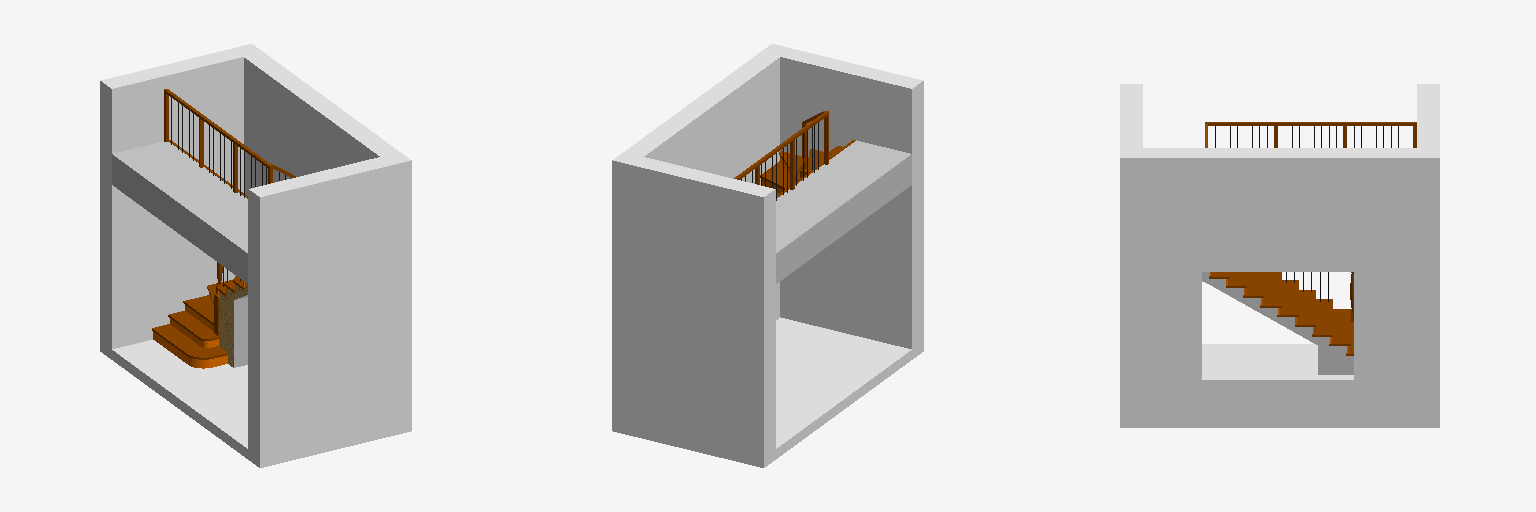
The picture shows the model from 3 angles: view 1: azimuth 30°, elevation 25°; view 2: azimuth 150°, elevation 25°; view 3: azimuth 270°, elevation 25°; orthographic projection.
Bounding box in the file's own units: 3.05 × 5.2 × 5.55.
105 materials, 1 textured.